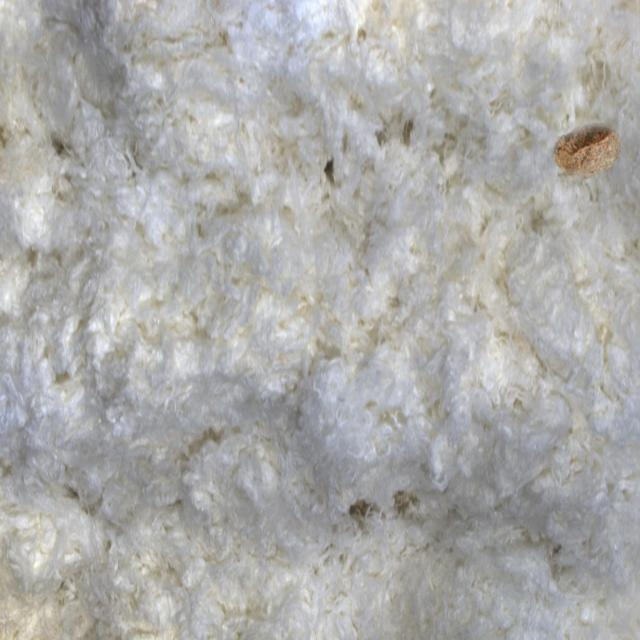dust: (524, 72, 640, 231)
